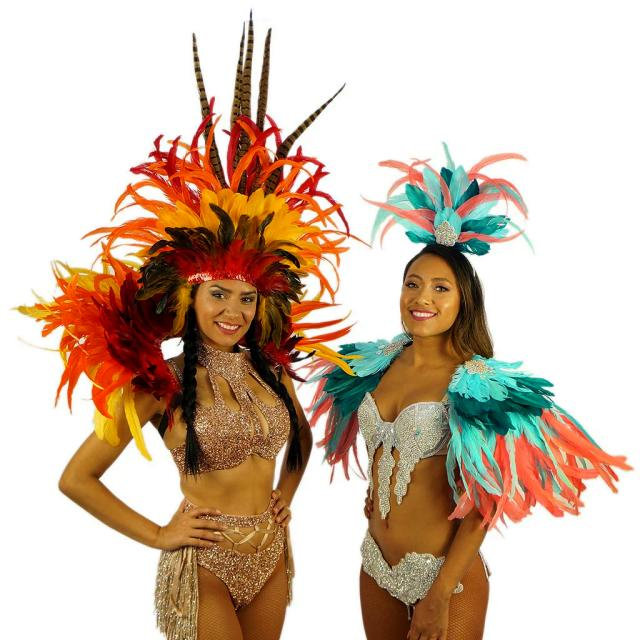Phasianus Colchicus: (230, 8, 275, 162), (273, 80, 347, 159), (193, 32, 226, 169)
